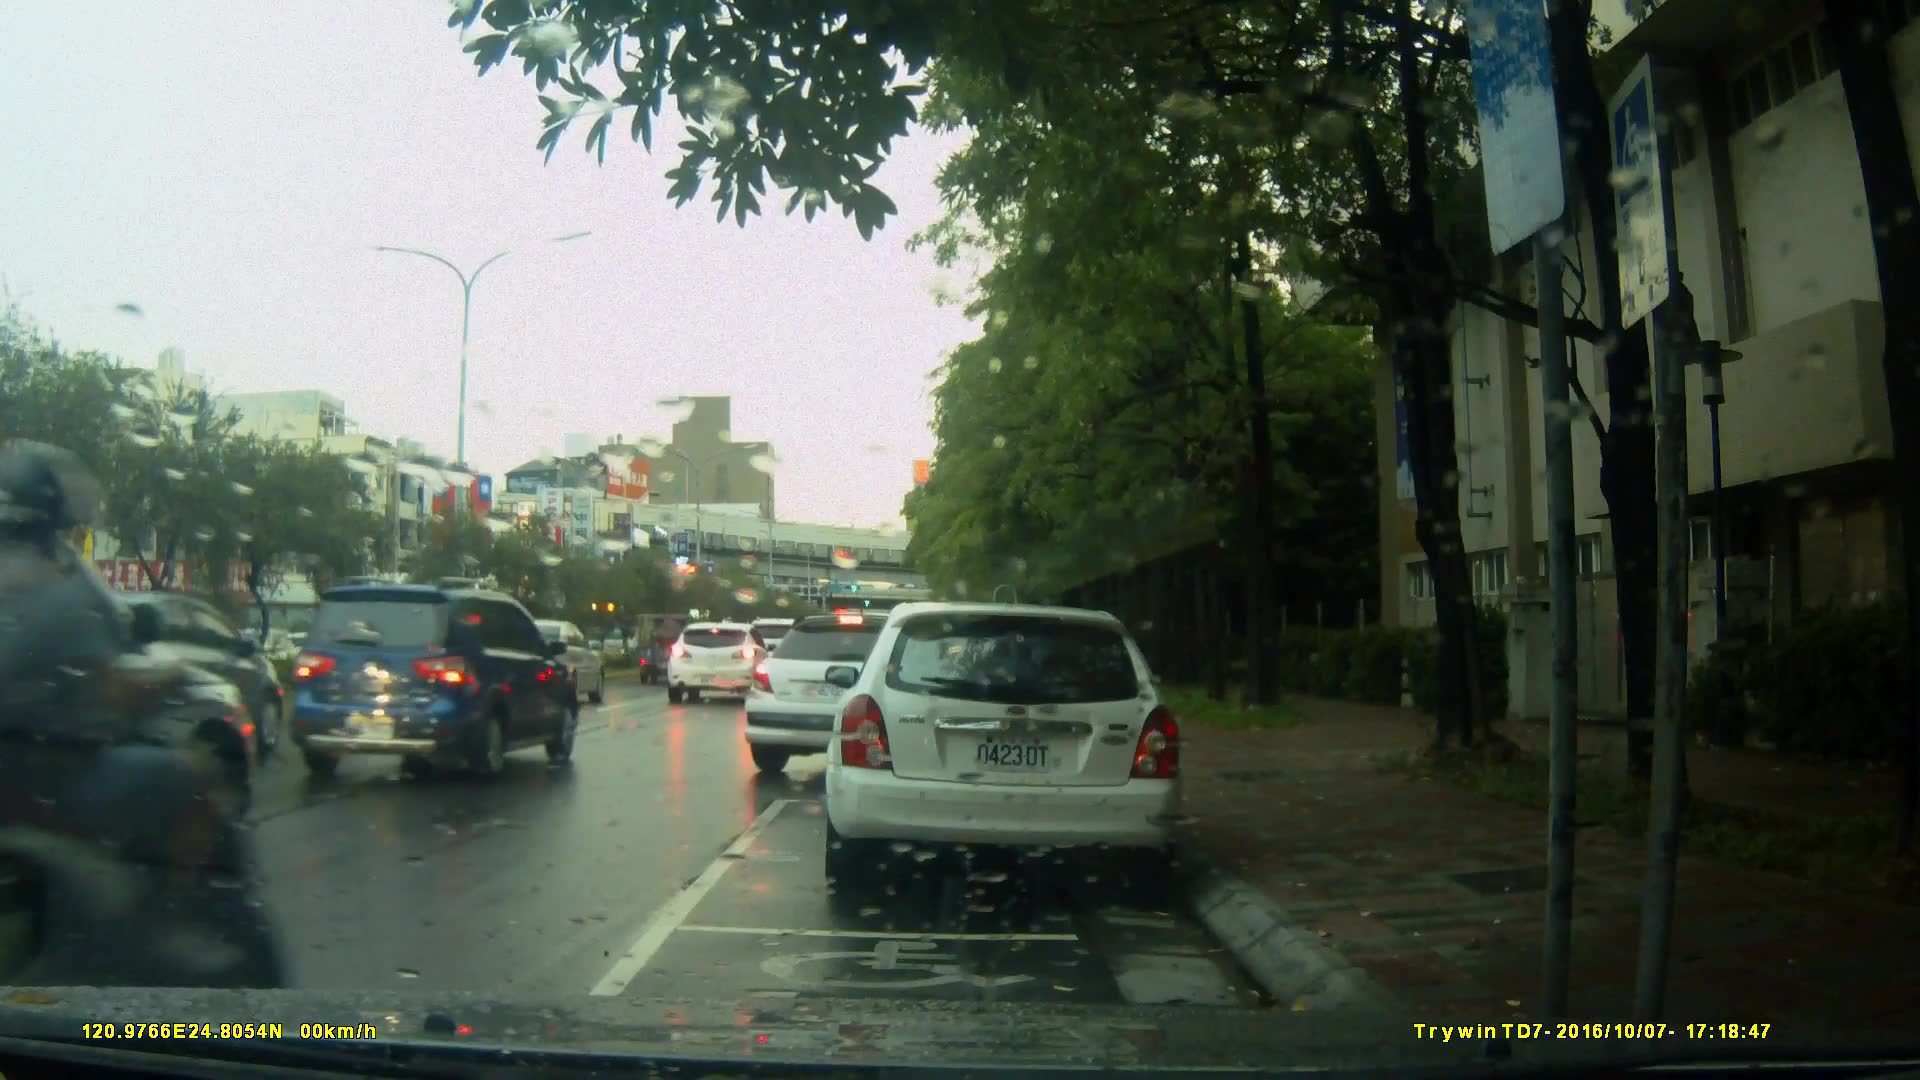rider: (1, 440, 296, 1080)
vehicle: (1, 472, 268, 970), (820, 602, 1188, 898), (282, 574, 585, 782), (738, 611, 1021, 786), (666, 620, 769, 707)
